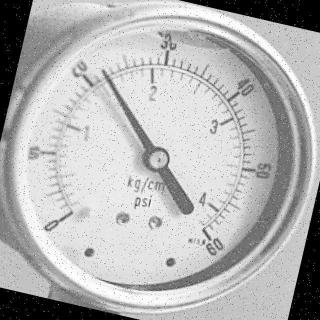gauge: (0, 0, 320, 320), (43, 198, 81, 240), (192, 219, 228, 259), (141, 143, 172, 173), (95, 65, 112, 81)
